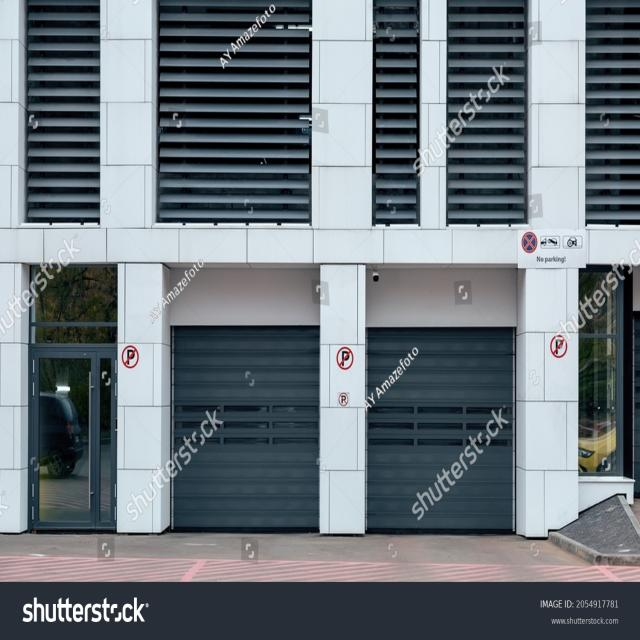Traffic sign: (335, 346, 358, 374), (120, 345, 140, 372), (551, 339, 566, 360)
